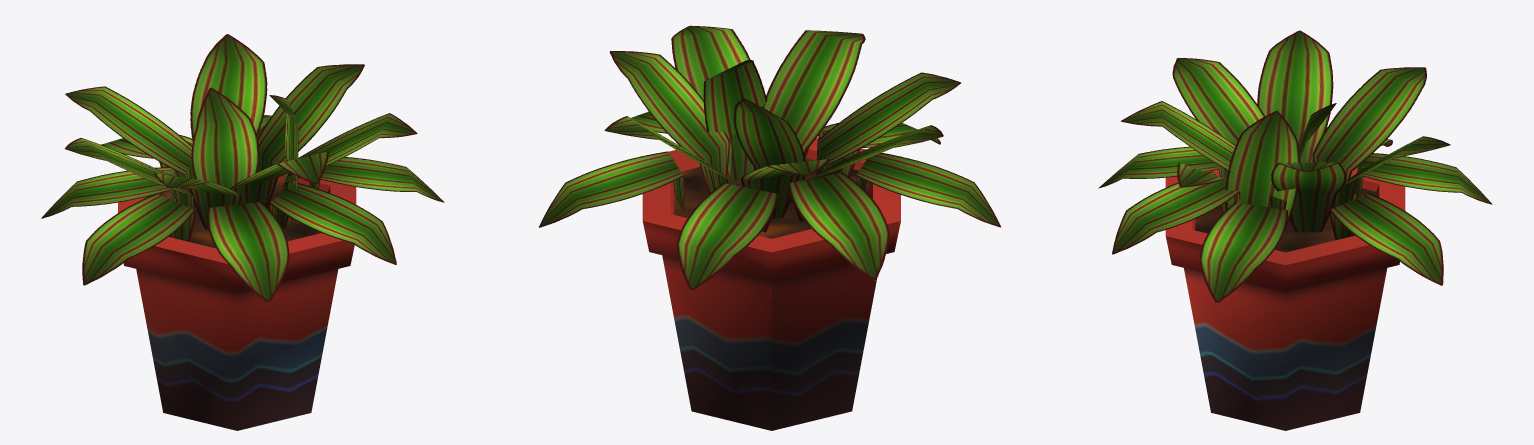
File: Potted Plant_C.FBX
3 views of the same model, side by side, from view 1: azimuth 30°, elevation 25°; view 2: azimuth 150°, elevation 25°; view 3: azimuth 270°, elevation 25° (orthographic). The views are drawn at different scales.
Visible parts, largest first — view 1: Potted Plant _B; view 2: Potted Plant _B; view 3: Potted Plant _B.
Boxes of the visible parts, x1=… form: Potted Plant _B: x1=41, y1=34, x2=444, y2=430; Potted Plant _B: x1=538, y1=25, x2=1000, y2=430; Potted Plant _B: x1=1098, y1=30, x2=1492, y2=430.
Size of the model in its own units: 151 by 108 by 143.
2 materials, 2 textured.
